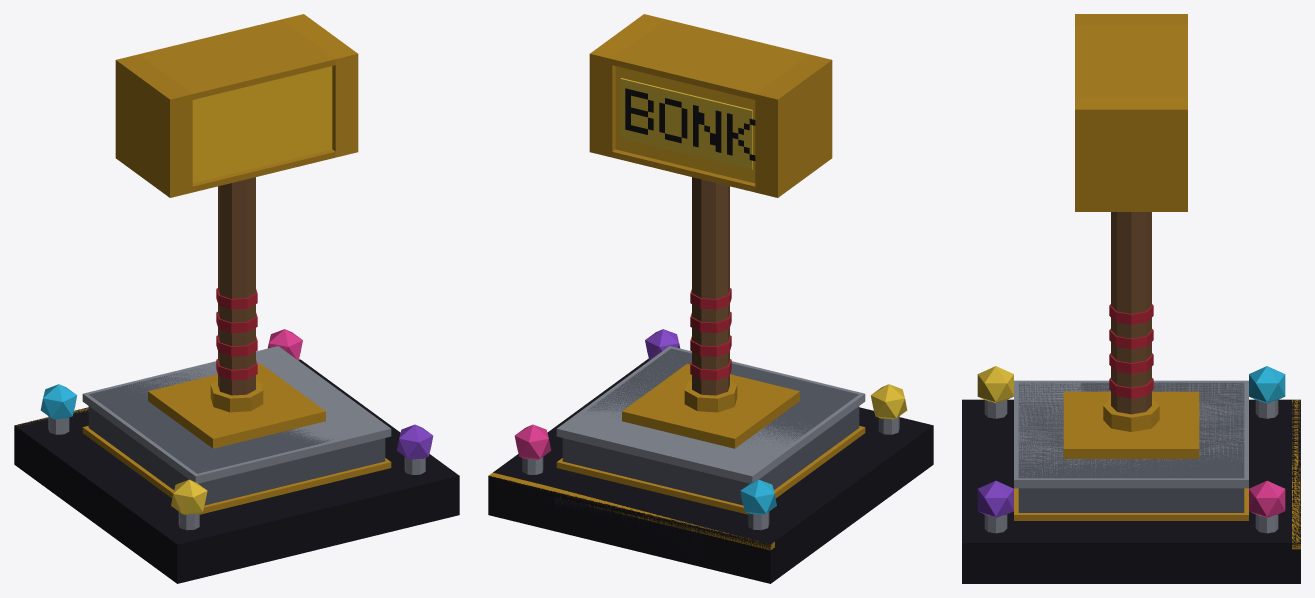
The model's file is Decor_DJStage_GoldHammer.fbx.
3 views of the same model, side by side, from view 1: azimuth 30°, elevation 25°; view 2: azimuth 150°, elevation 25°; view 3: azimuth 270°, elevation 25° (orthographic). The views are drawn at different scales.
Parts seen in each view (by area): view 1: GoldHammer_Body; view 2: GoldHammer_Body; view 3: GoldHammer_Body.
Part boxes in pixels (x1=…): GoldHammer_Body: x1=14, y1=14, x2=459, y2=583; GoldHammer_Body: x1=488, y1=14, x2=933, y2=583; GoldHammer_Body: x1=962, y1=14, x2=1300, y2=583.
Size of the model in its own units: 15 by 22 by 15.
